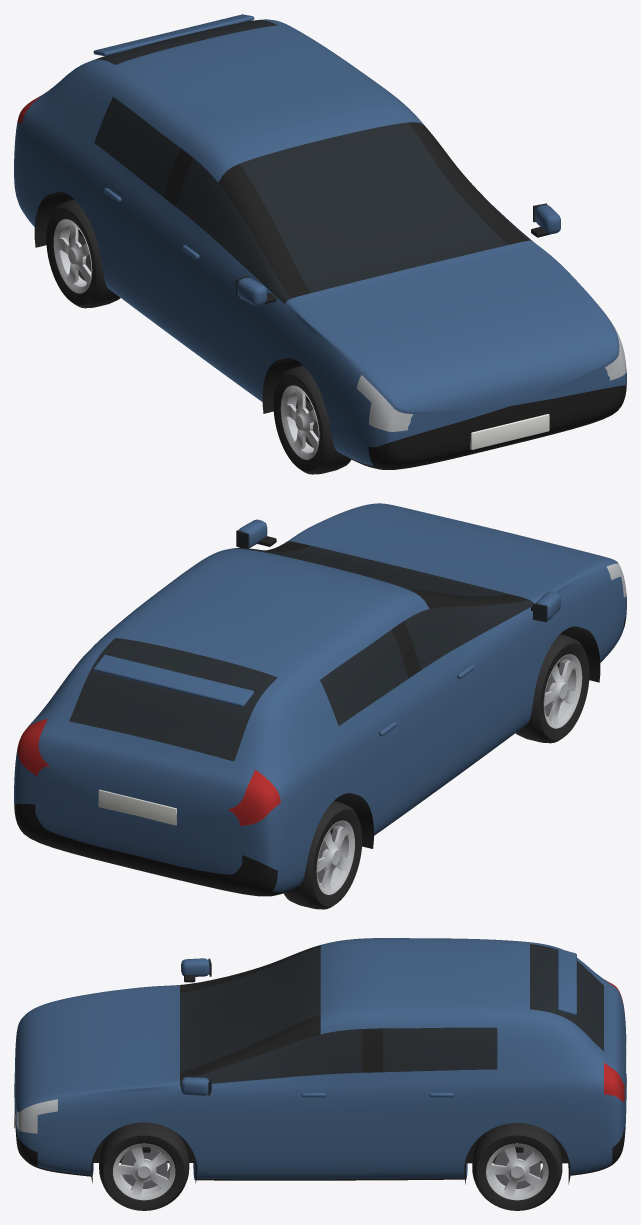
The model's file is hatchback.glb.
The picture shows the model from 3 angles, top to bottom: view 1: azimuth 30°, elevation 25°; view 2: azimuth 150°, elevation 25°; view 3: azimuth 270°, elevation 25°; orthographic projection. The views are drawn at different scales.
Visible parts, largest first — view 1: Body, Wheel_FR, Wheel_RR; view 2: Body, Wheel_RR, Wheel_FR; view 3: Body, Wheel_FL, Wheel_RL.
Boxes of the visible parts, x1,y1,x2,y2 form: Body: (14,14,626,469); Wheel_FR: (273,365,351,474); Wheel_RR: (46,199,120,308); Body: (14,503,626,896); Wheel_RR: (284,800,362,909); Wheel_FR: (515,634,589,743); Body: (14,938,626,1184); Wheel_FL: (99,1122,189,1210); Wheel_RL: (472,1123,562,1210).
Size of the model in its own units: 2.08 by 1.47 by 4.3.
